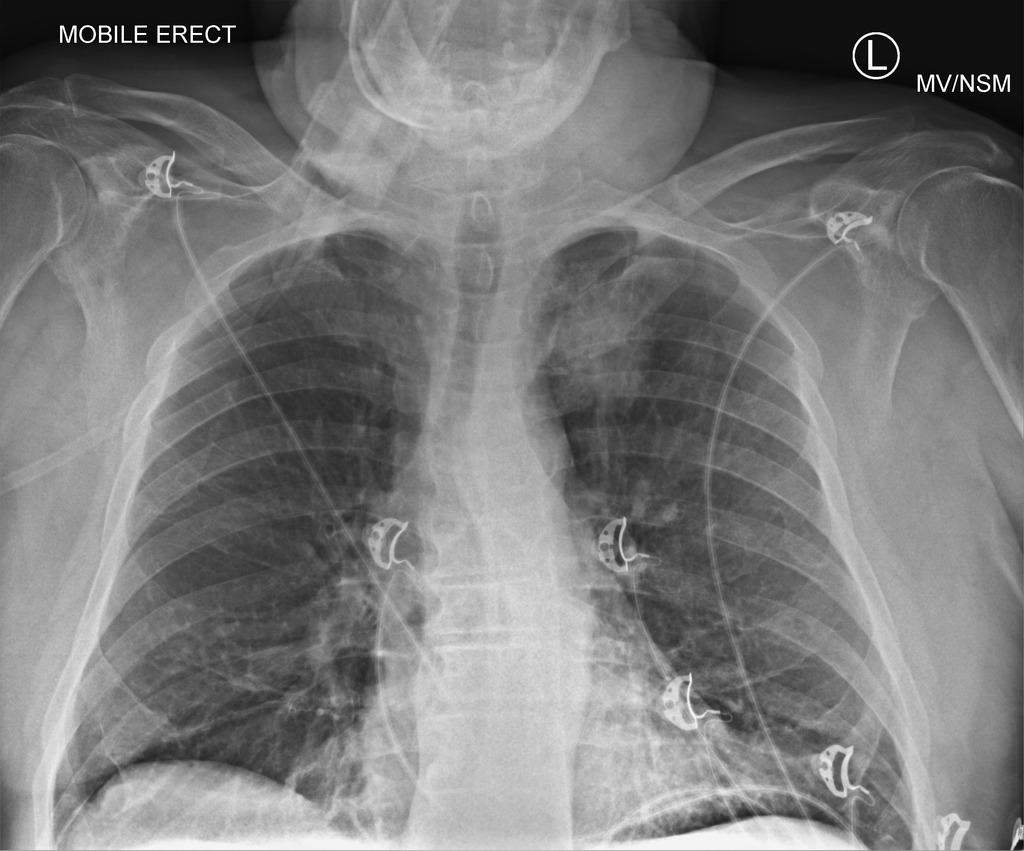cancer: (118, 306, 408, 778), (560, 212, 712, 500)
